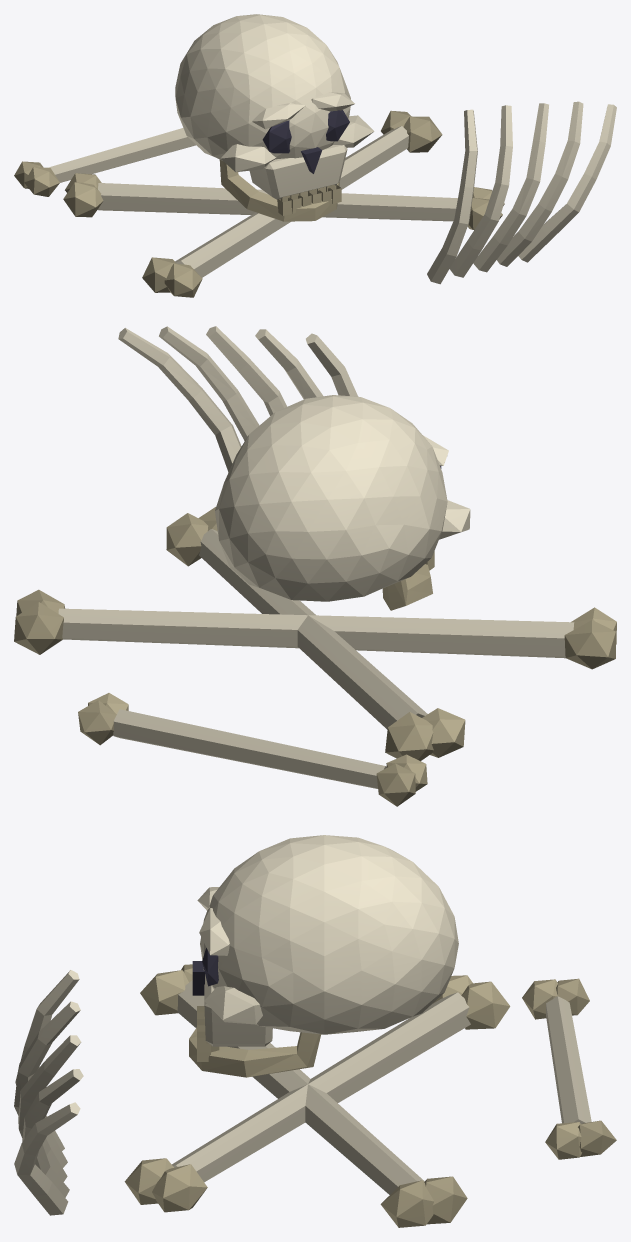
Rendered from skull_bones.fbx.
The picture shows the model from 3 angles, top to bottom: view 1: azimuth 30°, elevation 25°; view 2: azimuth 150°, elevation 25°; view 3: azimuth 270°, elevation 25°; orthographic projection. The views are drawn at different scales.
Visible parts, largest first — view 1: skull_bones_Bones, skull_bones_Aged, skull_bones_Sockets; view 2: skull_bones_Bones, skull_bones_Aged; view 3: skull_bones_Bones, skull_bones_Aged, skull_bones_Sockets.
Part boxes in pixels (bbox=[...]): skull_bones_Bones: bbox=[48, 14, 616, 284]; skull_bones_Aged: bbox=[14, 110, 504, 297]; skull_bones_Sockets: bbox=[262, 110, 349, 173]; skull_bones_Bones: bbox=[58, 326, 574, 788]; skull_bones_Aged: bbox=[14, 507, 616, 806]; skull_bones_Bones: bbox=[14, 835, 591, 1215]; skull_bones_Aged: bbox=[124, 964, 616, 1227]; skull_bones_Sockets: bbox=[192, 948, 218, 995].
Bounding box in the file's own units: 6.44 × 2.93 × 6.
